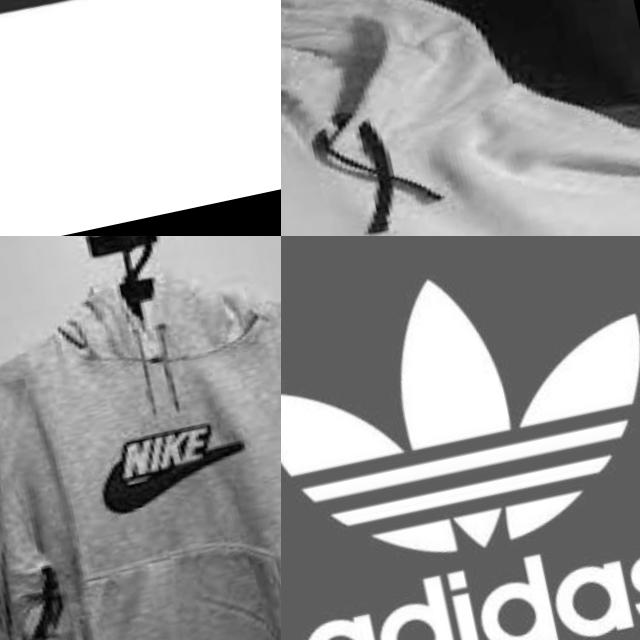ADIDAS_original: (281, 236, 640, 640), (281, 236, 640, 596), (283, 510, 640, 640)
NIKE_original: (67, 388, 280, 532)
